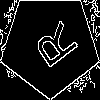R: (25, 20, 81, 76)
